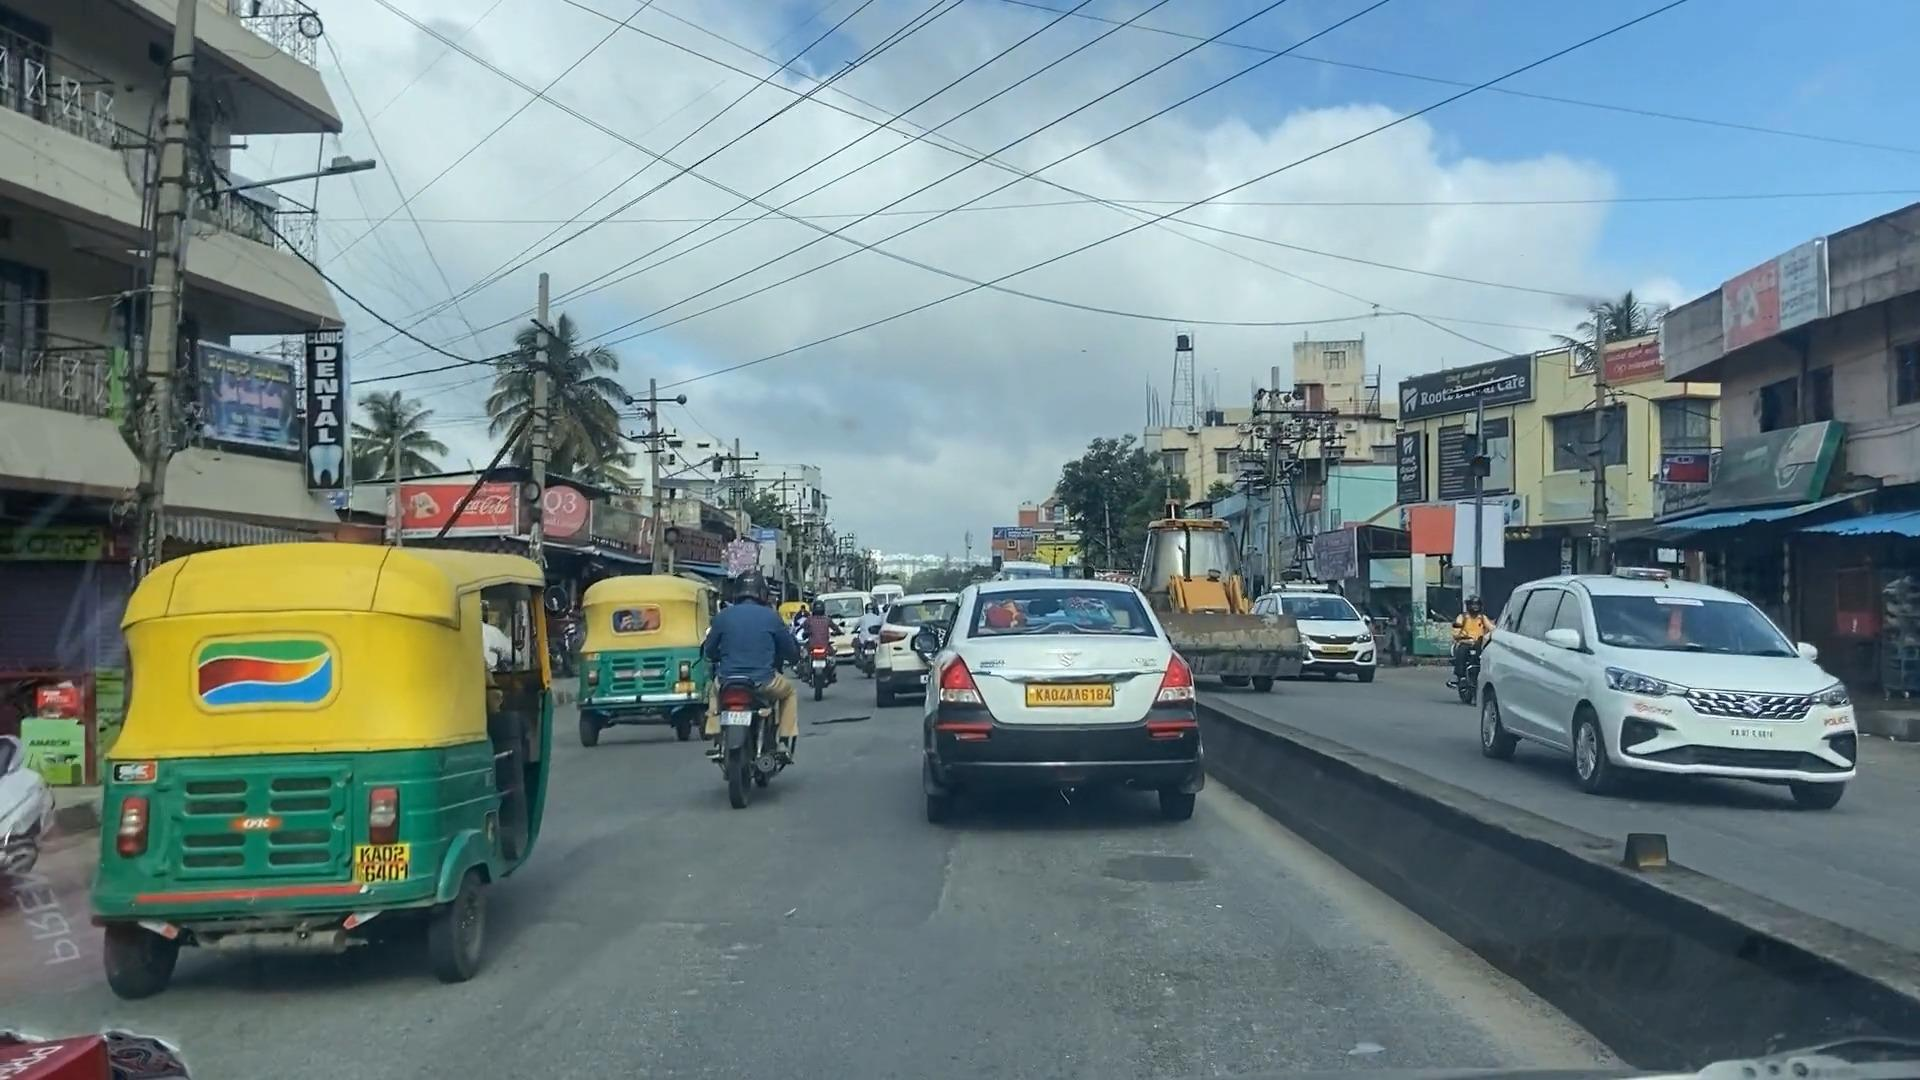LMV: (115, 558, 554, 992), (924, 562, 1200, 829), (691, 562, 791, 812)
